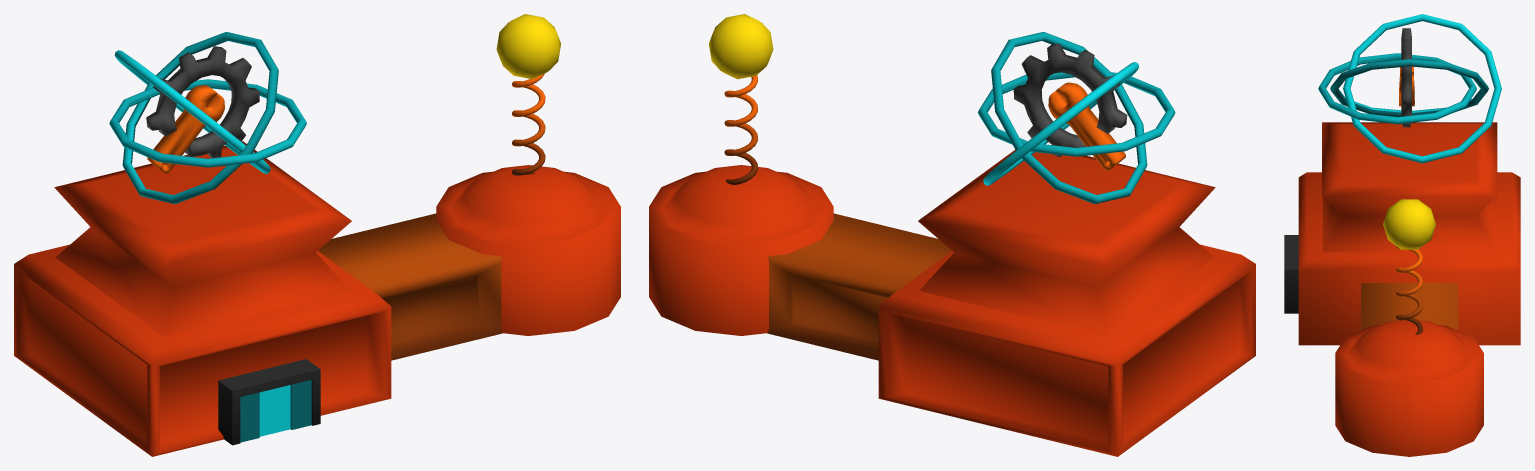
File: EngBuilding.fbx
3 views of the same model, side by side, from view 1: azimuth 30°, elevation 25°; view 2: azimuth 150°, elevation 25°; view 3: azimuth 270°, elevation 25° (orthographic). The views are drawn at different scales.
Visible parts, largest first — view 1: NurbsPath.002, AutomaticDoors.001, DoorL.001, DoorR.001; view 2: NurbsPath.002; view 3: NurbsPath.002, AutomaticDoors.001.
Boxes of the visible parts, x1,y1,x2,y2 form: NurbsPath.002: [14, 14, 620, 456]; AutomaticDoors.001: [218, 359, 320, 445]; DoorL.001: [274, 385, 290, 432]; DoorR.001: [259, 389, 274, 436]; NurbsPath.002: [649, 14, 1255, 456]; NurbsPath.002: [1298, 14, 1520, 456]; AutomaticDoors.001: [1284, 235, 1298, 313].
Size of the model in its own units: 1310 by 781 by 635.
Materials: 2 (2 with a texture image).
